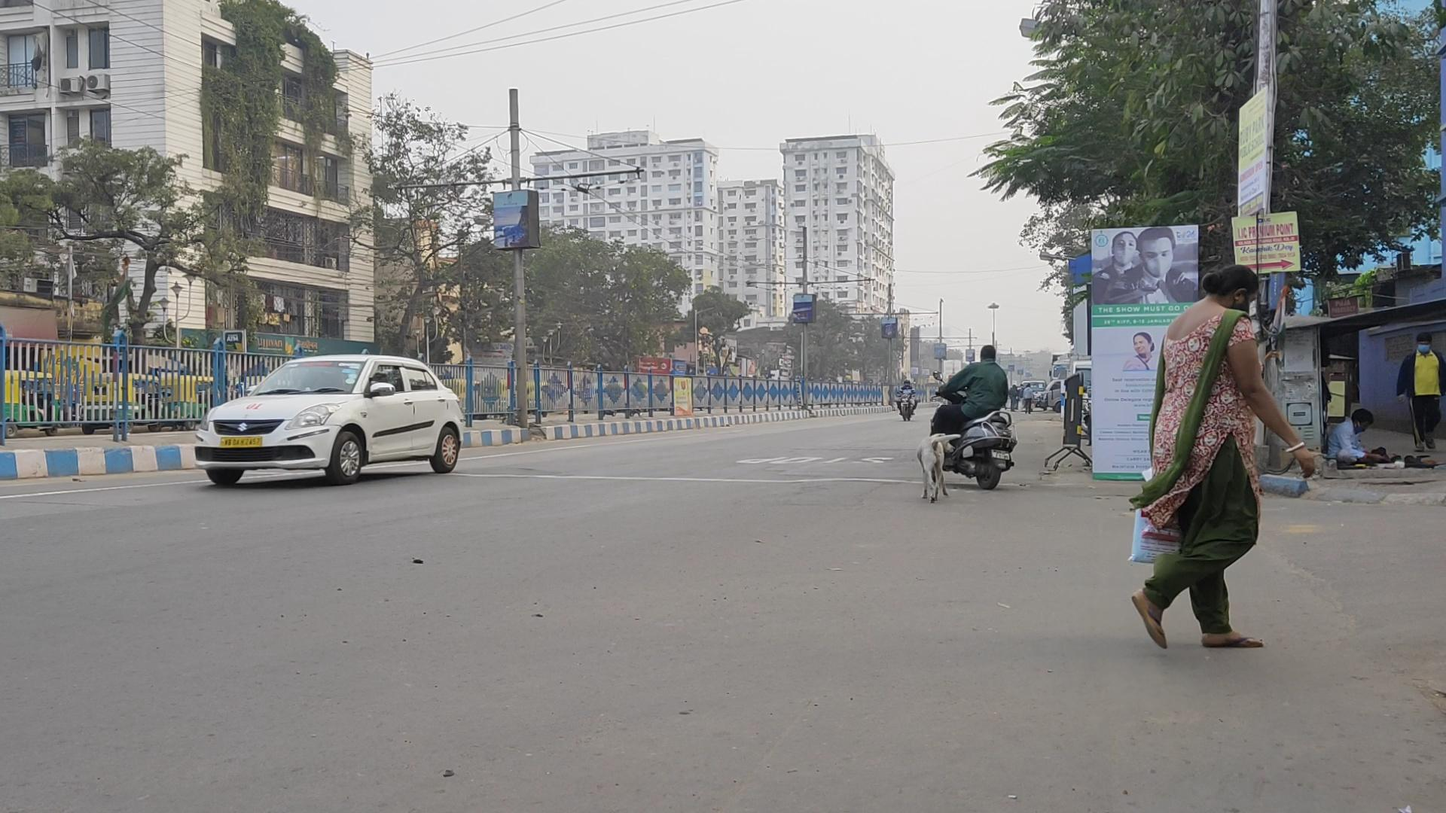bike: (930, 345, 1017, 490), (895, 379, 919, 422)
car: (194, 354, 466, 486), (1020, 378, 1048, 412)
